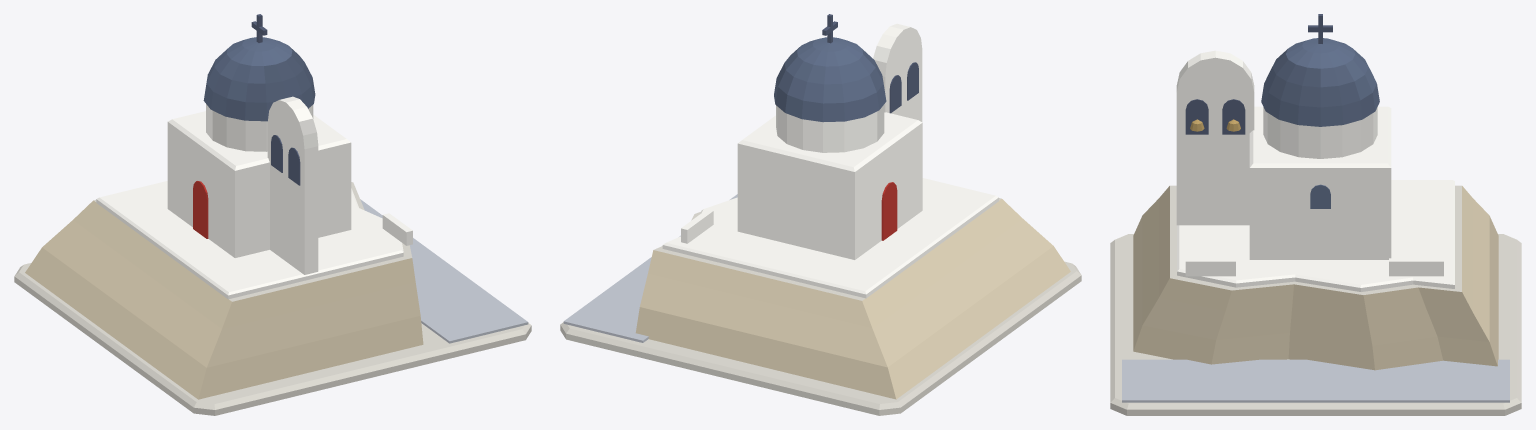
File: santorini.glb
The picture shows the model from 3 angles, left to right: view 1: azimuth 30°, elevation 25°; view 2: azimuth 150°, elevation 25°; view 3: azimuth 270°, elevation 25°; orthographic projection. The views are drawn at different scales.
Parts seen in each view (by area): view 1: model; view 2: model; view 3: model.
Part boxes in pixels (bbox=[...]): model: bbox=[14, 14, 531, 415]; model: bbox=[560, 14, 1081, 415]; model: bbox=[1110, 14, 1521, 415].
Bounding box in the file's own units: 18 × 14.9 × 18.
